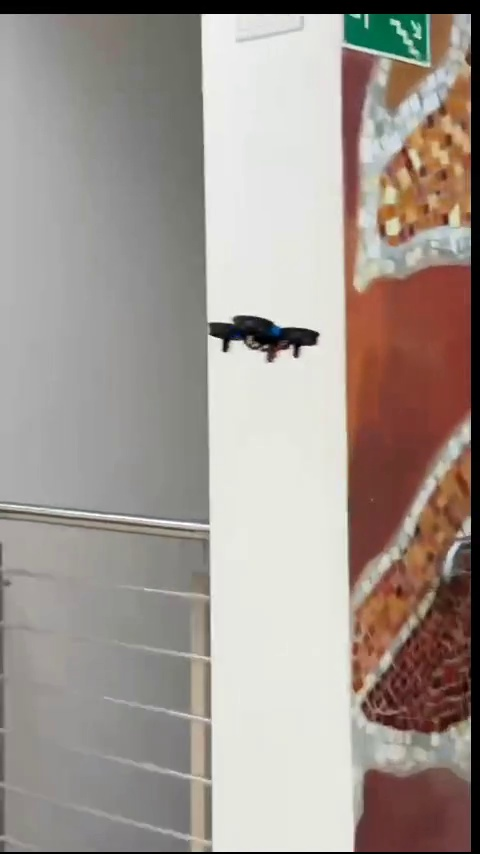drone: (207, 316, 321, 361)
